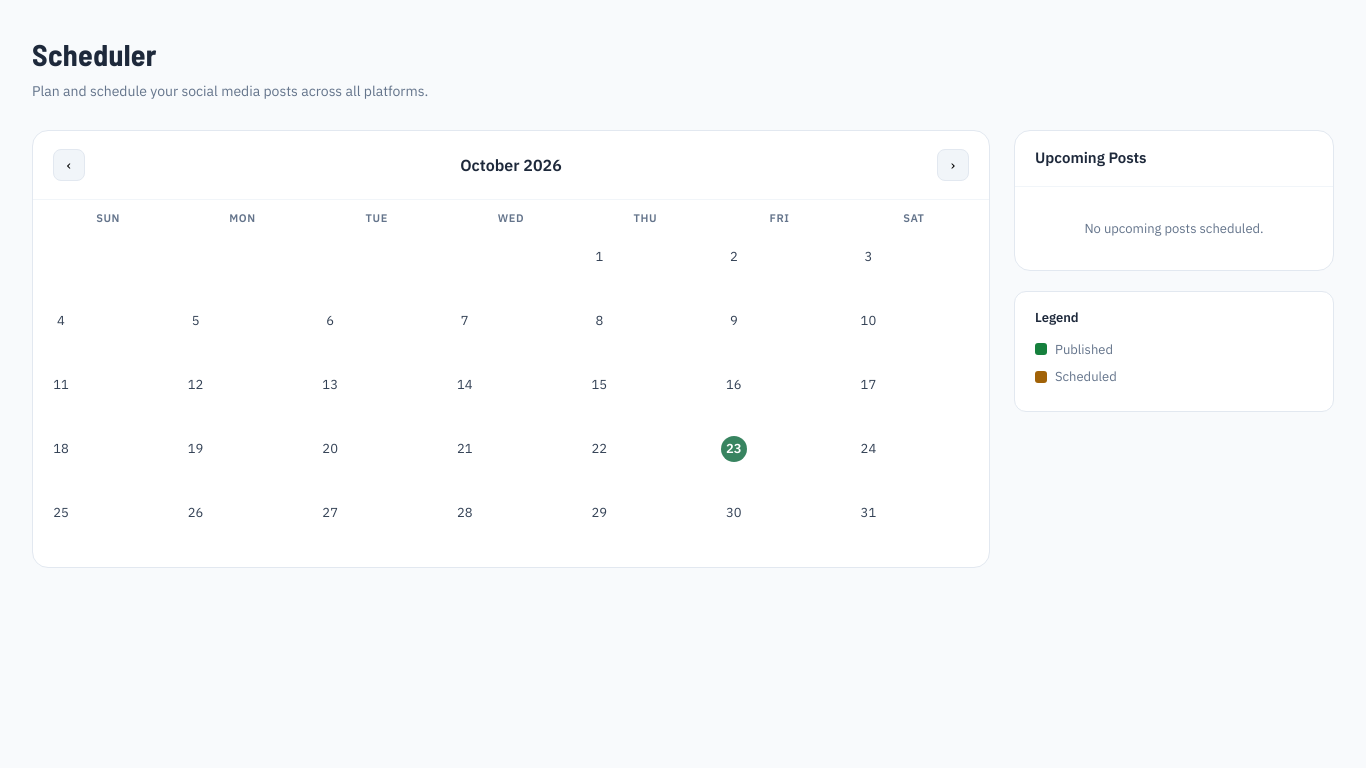
Scenario: Scheduler — day detail panel › deselects a day when clicked a second time
This screenshot has width=1366, height=768.
Expected: the heading "October 2026" is shown, 460,153 -> 562,177
Click the text "1". click: (599, 256)
box: 595,248 -> 603,265
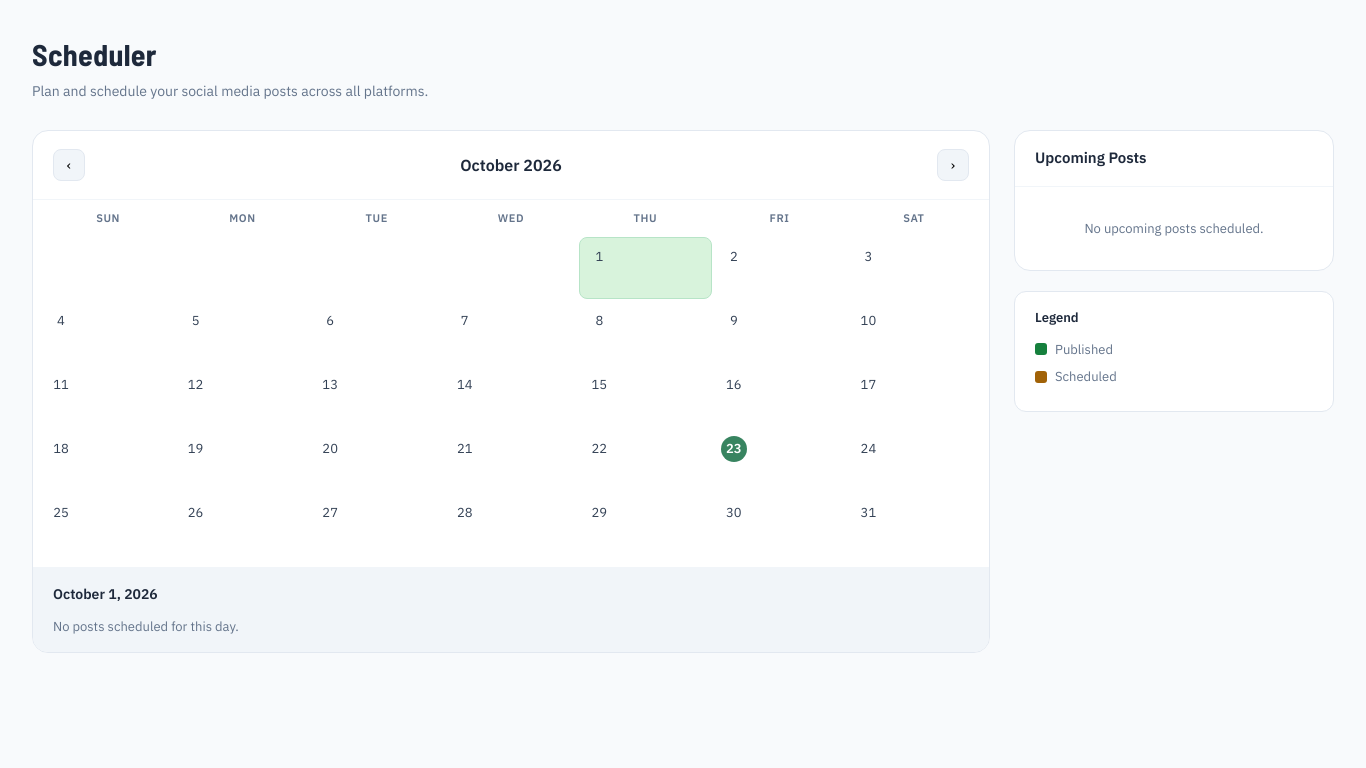
Expected: the text "No posts scheduled for this day." is shown, 53,618 -> 239,634
Note: Click same day again — detail panel should disappear
Click the text "1". click: (599, 256)
box: 595,248 -> 603,265
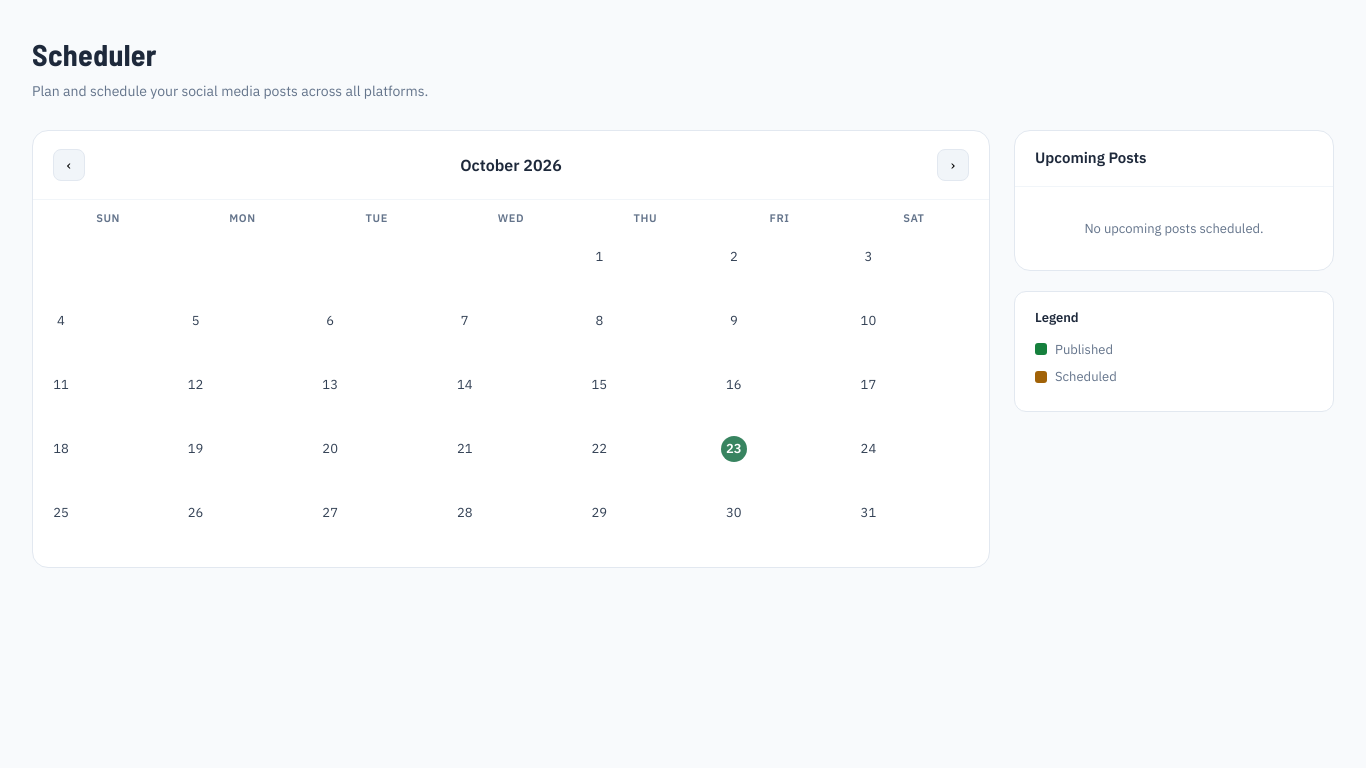
Expected: the text "No posts scheduled for this day." is gone
